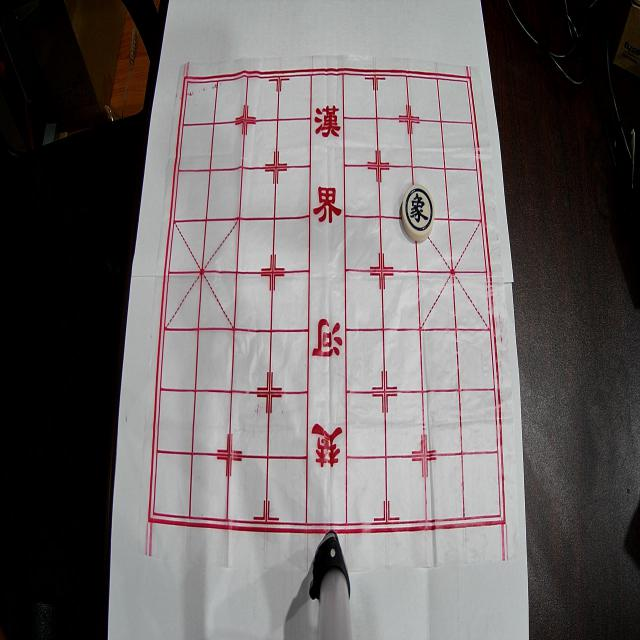black-elephant: (402, 184, 435, 242)
